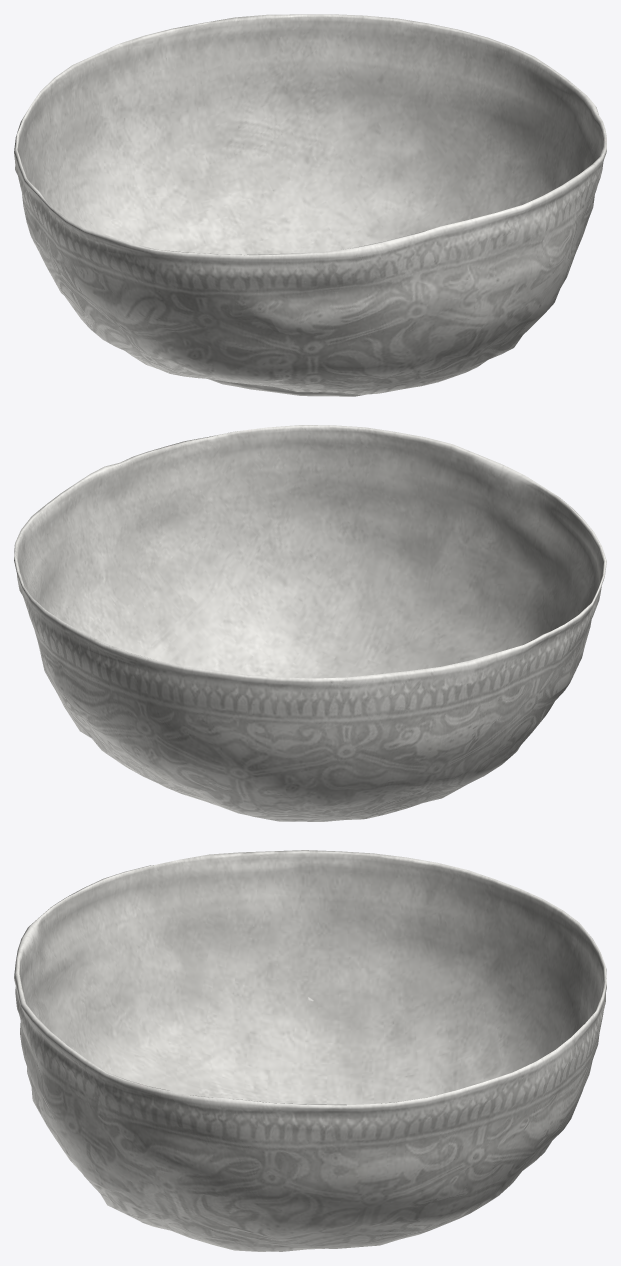
Rendered from silvercup.glb.
3 views of the same model, one above another, from view 1: azimuth 30°, elevation 25°; view 2: azimuth 150°, elevation 25°; view 3: azimuth 270°, elevation 25° (orthographic). The views are drawn at different scales.
Visible parts, largest first — view 1: FO0010_03 - Default_0; view 2: FO0010_03 - Default_0; view 3: FO0010_03 - Default_0.
Part boxes in pixels (left/top/right/bottom): FO0010_03 - Default_0: left=14, top=14, right=606, bottom=396; FO0010_03 - Default_0: left=14, top=425, right=606, bottom=821; FO0010_03 - Default_0: left=14, top=850, right=606, bottom=1251.
Size of the model in its own units: 0.0831 by 0.0347 by 0.0802.
1 material, 1 textured.
